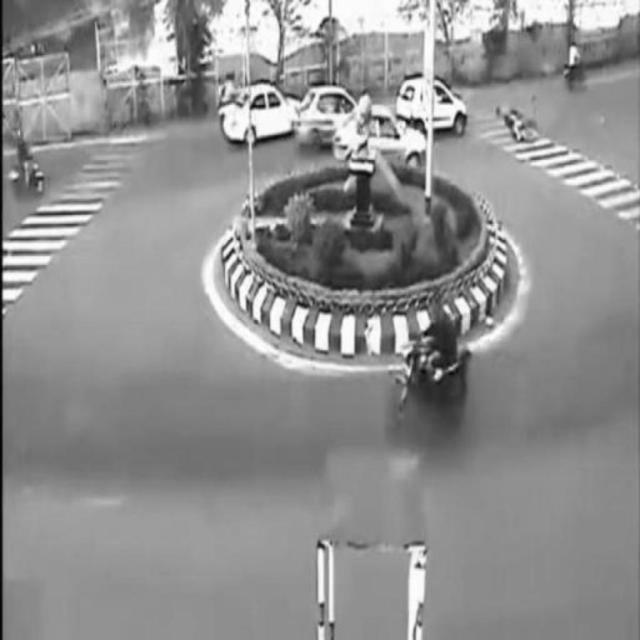vehicle: (393, 301, 475, 414), (333, 105, 426, 169), (224, 82, 305, 140), (398, 77, 466, 141), (296, 87, 367, 145), (496, 100, 538, 150)
